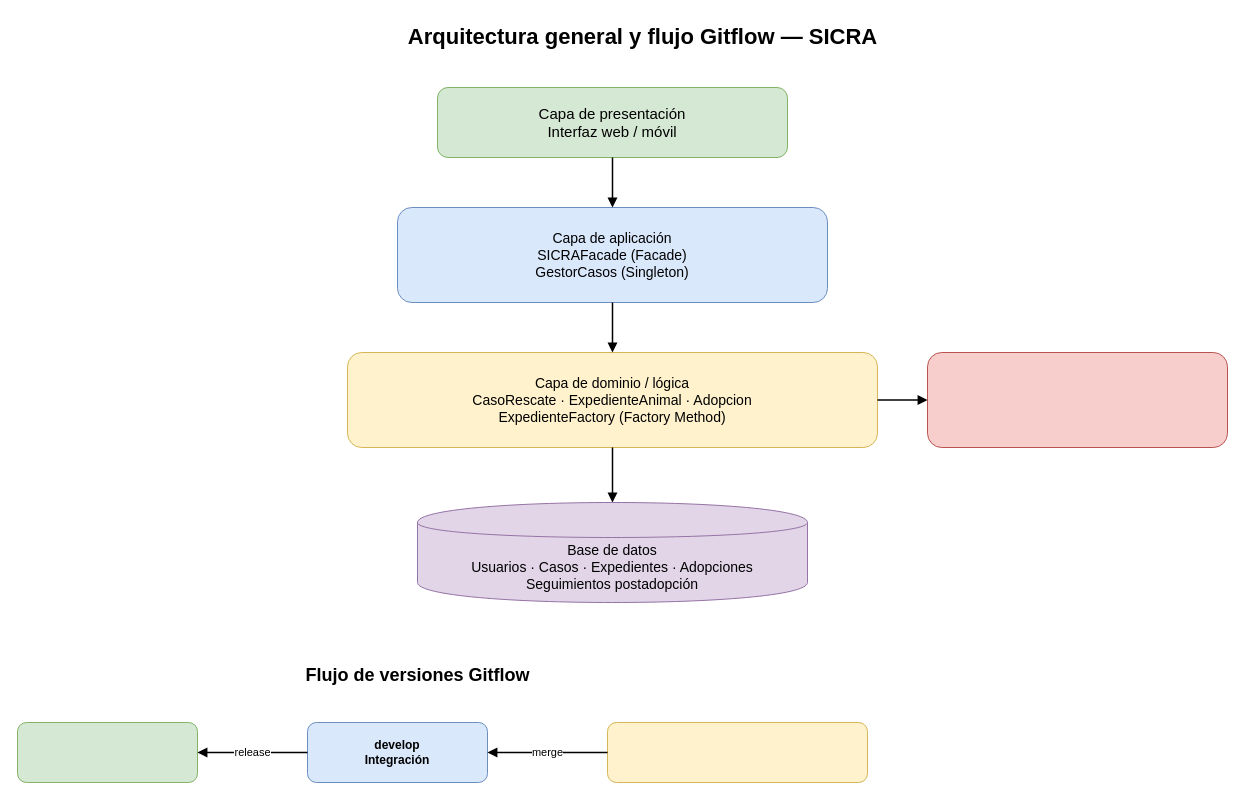
This 1245x800 diagram has some shape labels left out. The centre of each missing label's shape, as x and y in pixels:
"feature/* Diagramas / patrones / requisitos" goes at (737,752).
"master Versión estable" goes at (107,752).
"ServicioNotificaciones Observer: avisos a responsables" goes at (1077,400).
